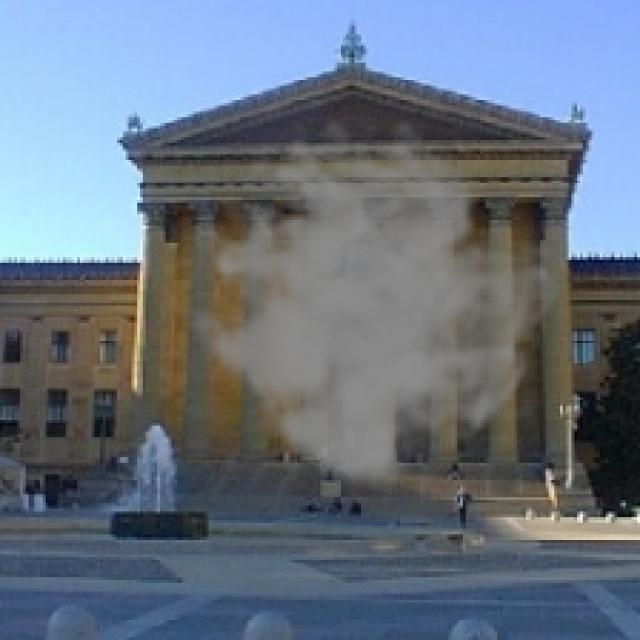Smoke: (174, 117, 569, 494)
